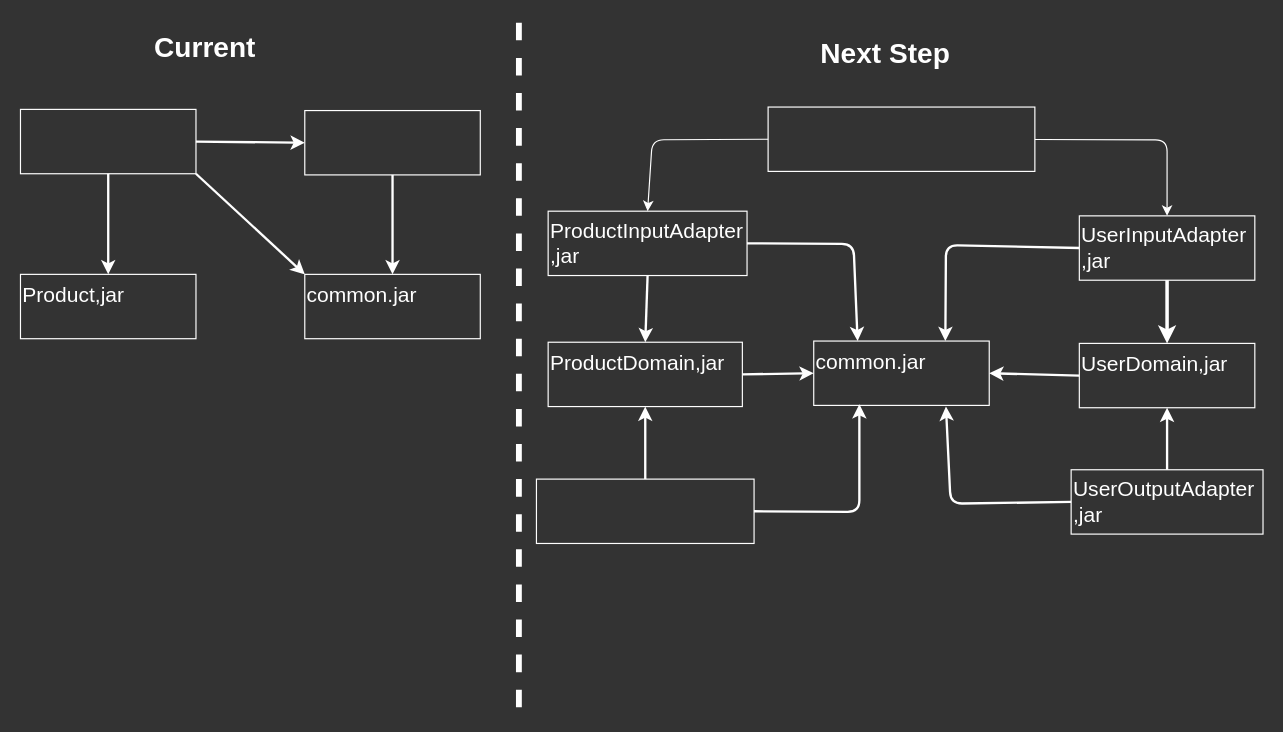
Some shapes in this 1283 by 732 pixel diagram are drawn without their labels. The shapes that lost their labels are listed below. From the top down, each one's centre as x and y in pixels, then its label:
At point (107, 141): "Adapter,jar".
At point (392, 142): "User,jar".
At point (901, 138): "MainAndConfiguration.jar".
At point (644, 510): "ProductOutputAdapter ,jar".
